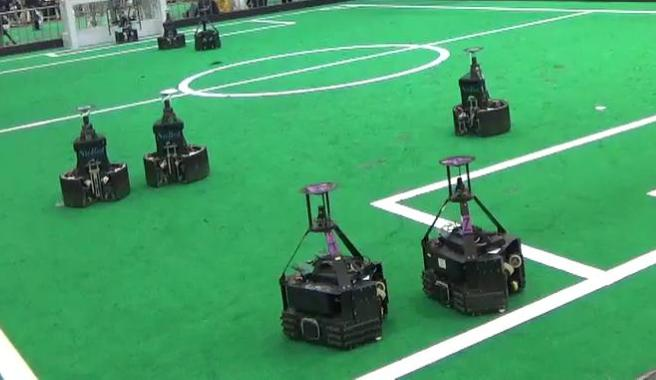robot: (275, 179, 394, 353), (414, 154, 530, 319), (53, 103, 134, 208), (138, 90, 212, 193), (449, 44, 514, 140)
